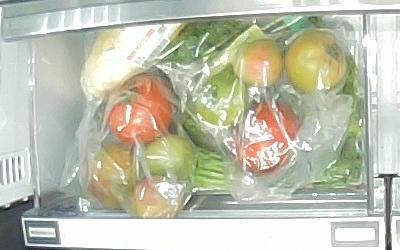tomato_vinyl: (236, 100, 299, 176), (107, 73, 174, 143), (286, 30, 348, 93), (88, 145, 135, 209), (195, 72, 246, 126), (234, 40, 284, 87), (131, 174, 182, 219), (145, 135, 194, 180)
